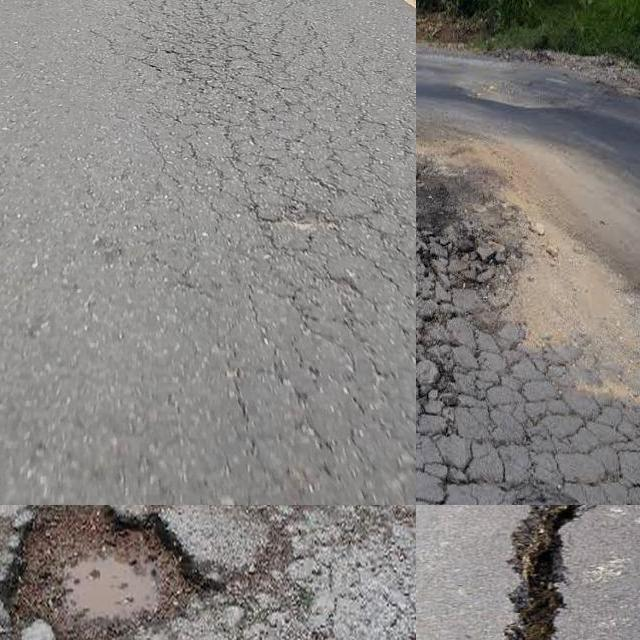Lubang: (9, 505, 216, 640)
Pinggir: (492, 505, 640, 640)
Retak Buaya: (108, 0, 416, 409), (416, 305, 640, 505)
